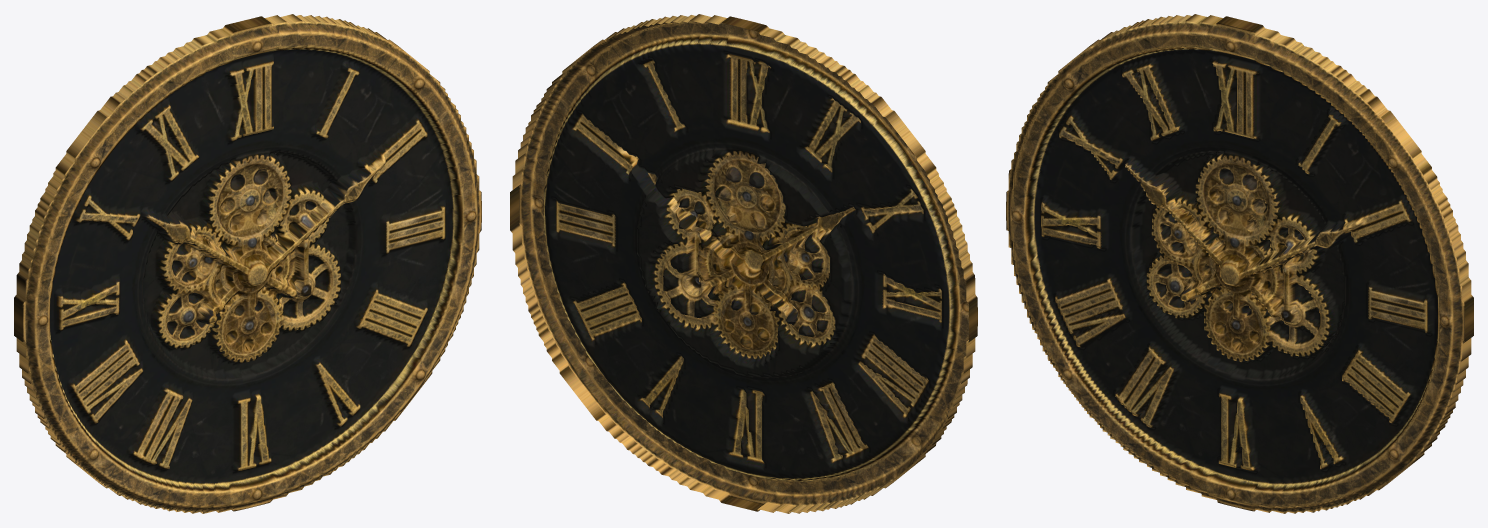
The model's file is saat.glb.
3 views of the same model, side by side, from view 1: azimuth 30°, elevation 25°; view 2: azimuth 150°, elevation 25°; view 3: azimuth 330°, elevation 25° (orthographic).
Parts seen in each view (by area): view 1: n; view 2: n; view 3: n.
Part boxes in pixels (x1,y1,x2,y2): n: (14,14,481,513); n: (510,14,977,513); n: (1006,14,1473,513).
Size of the model in its own units: 0.2 by 0.2 by 0.0114.
1 material, 1 textured.
